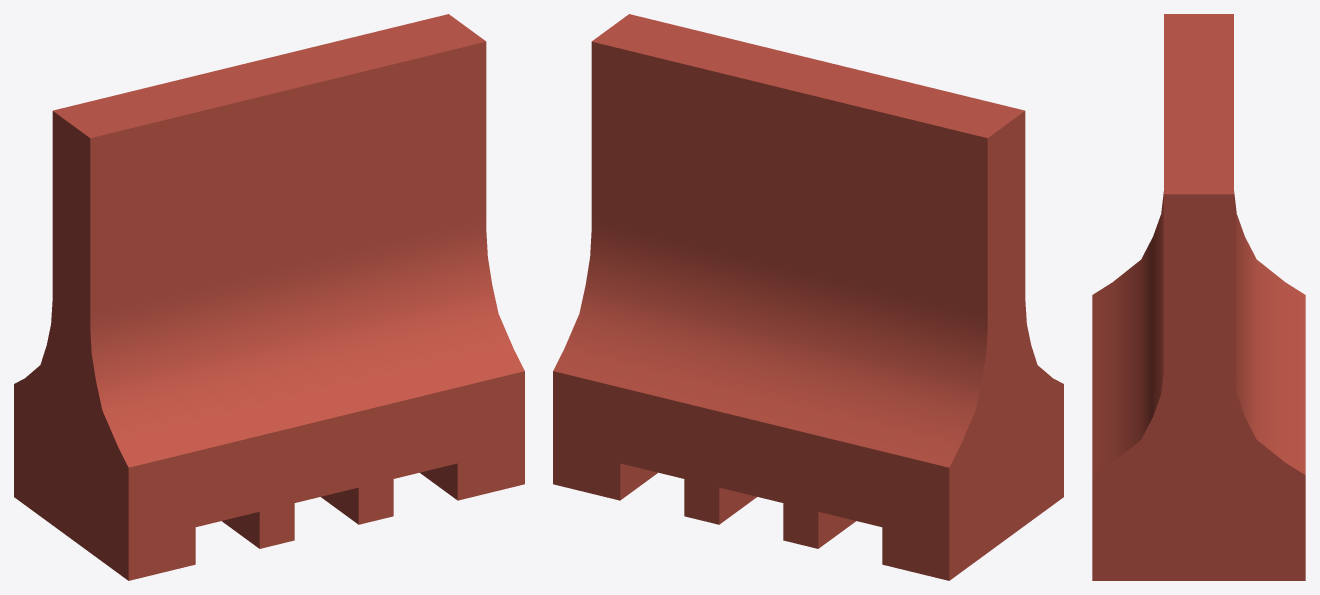
The model's file is Road_Block_003.glb.
3 views of the same model, side by side, from view 1: azimuth 30°, elevation 25°; view 2: azimuth 150°, elevation 25°; view 3: azimuth 270°, elevation 25° (orthographic). The views are drawn at different scales.
Parts seen in each view (by area): view 1: Road Block.003; view 2: Road Block.003; view 3: Road Block.003.
Boxes of the visible parts, x1,y1,x2,y2 form: Road Block.003: [14, 14, 524, 580]; Road Block.003: [553, 14, 1063, 580]; Road Block.003: [1092, 14, 1305, 580].
Bounding box in the file's own units: 4.8 × 4.8 × 2.4.
1 material, 1 textured.
